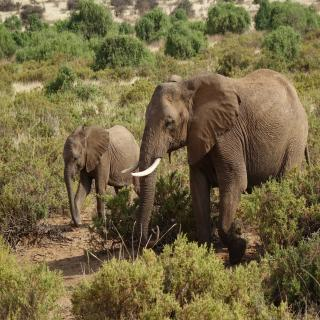Elephant: (120, 67, 315, 269), (61, 121, 148, 228)
